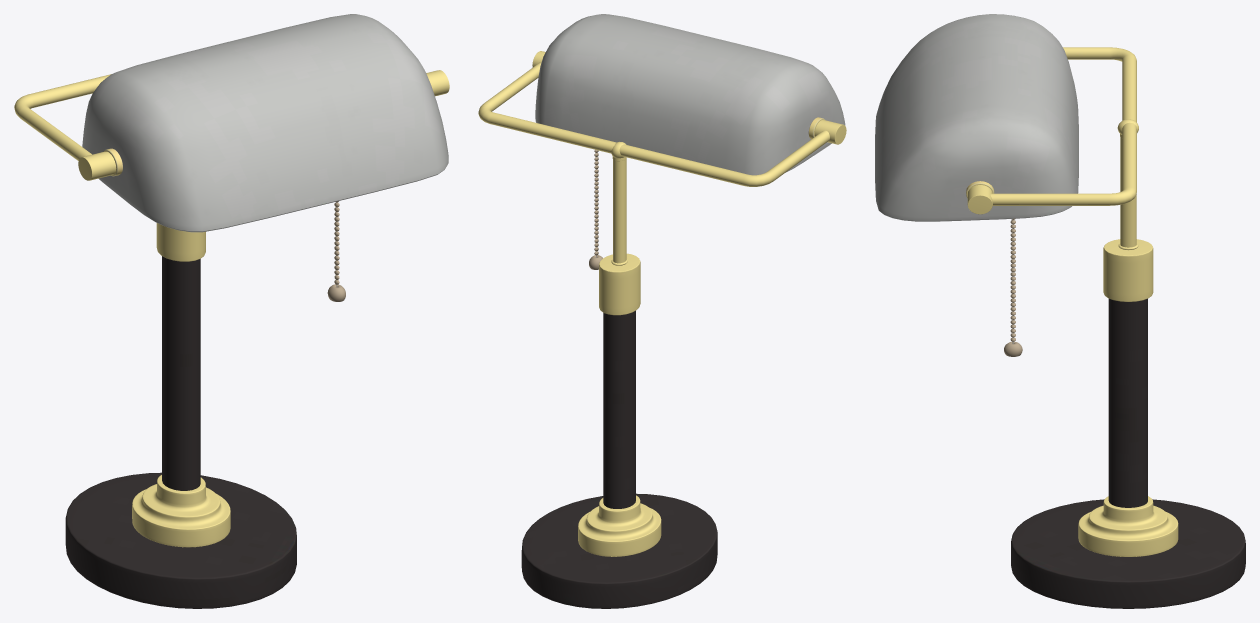
The model's file is abo-B07MHMSDJL.glb.
3 renders of one model, left to right at view 1: azimuth 30°, elevation 25°; view 2: azimuth 150°, elevation 25°; view 3: azimuth 270°, elevation 25°, orthographic. The views are drawn at different scales.
Size of the model in its own units: 0.269 by 0.404 by 0.2689.
Materials: 1 (1 with a texture image).
